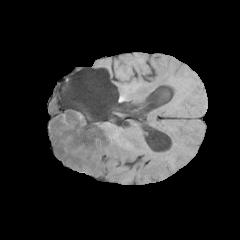glioma: (49, 86, 136, 176)
